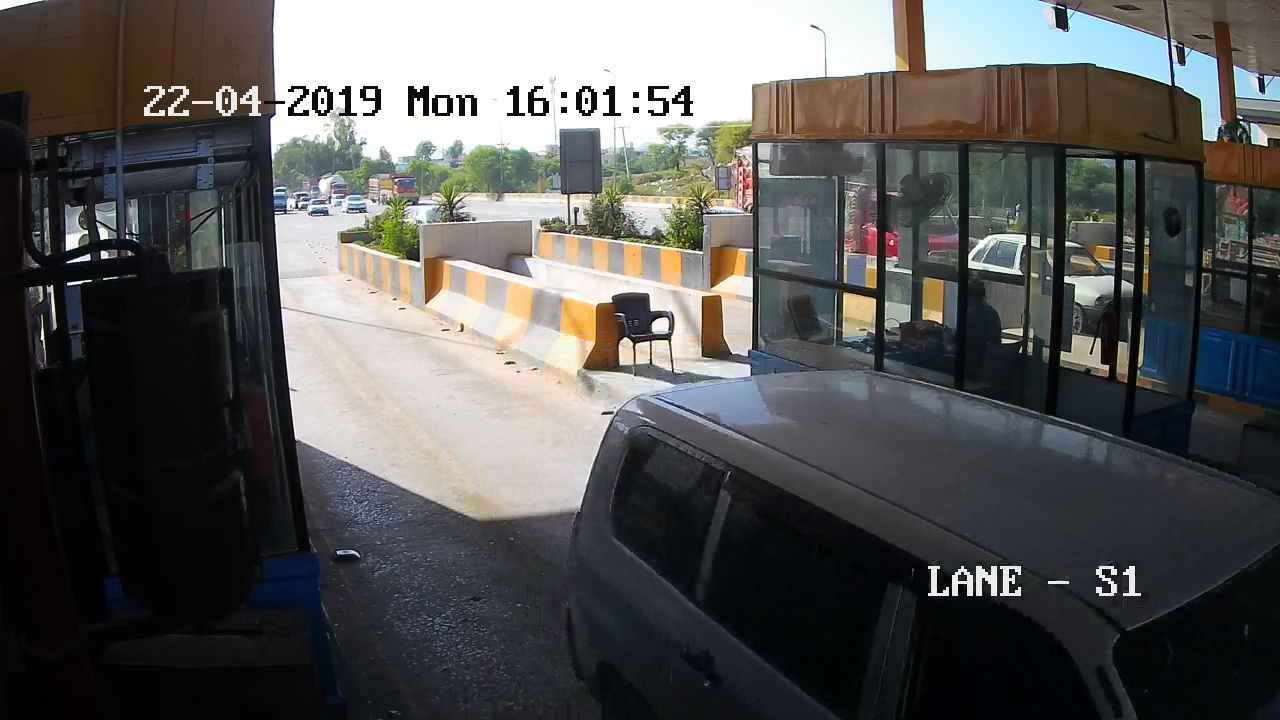car: (540, 409, 949, 700)
